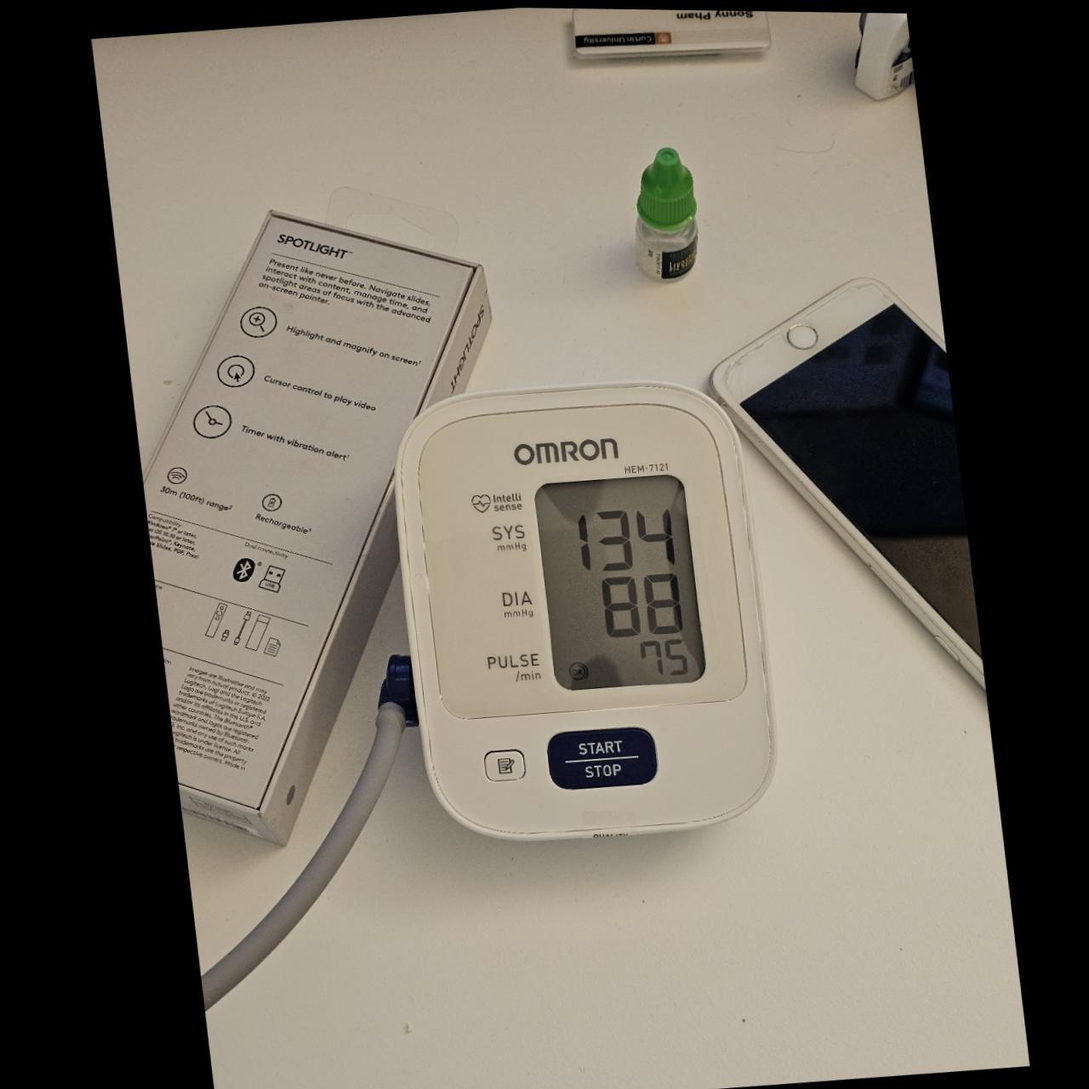lcd display: (531, 470, 710, 695)
